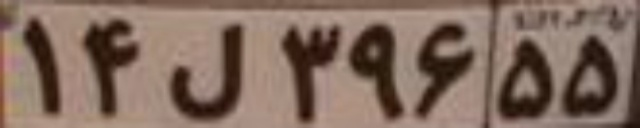1: (20, 16, 61, 114)
3: (276, 21, 345, 121)
4: (81, 18, 141, 116)
5: (496, 35, 558, 117), (561, 35, 621, 118)
6: (414, 23, 474, 116)
9: (349, 24, 402, 118)
lam: (166, 23, 246, 120)
